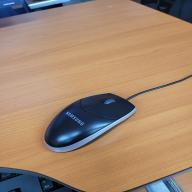mouse: (42, 92, 138, 154)
